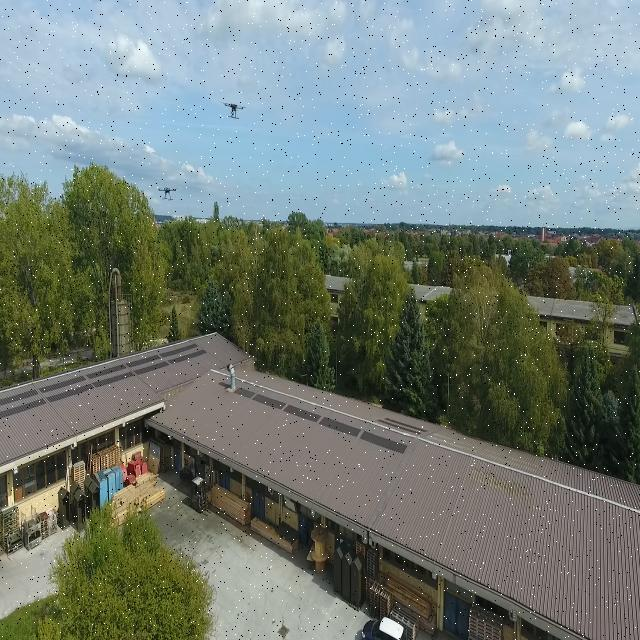UAV: (218, 97, 250, 126), (155, 184, 179, 207)
